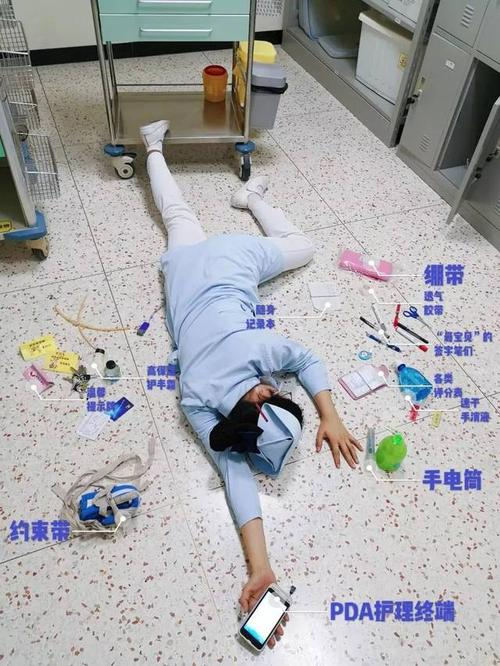fall: (126, 98, 360, 644)
